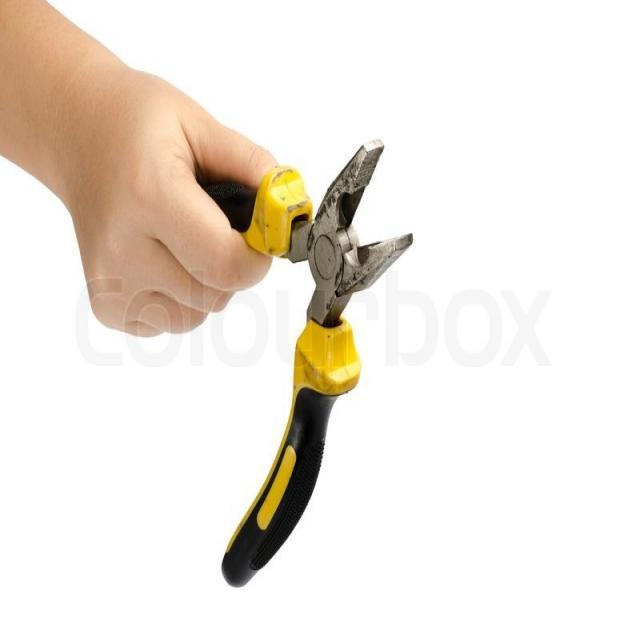pliers: (196, 132, 416, 590)
